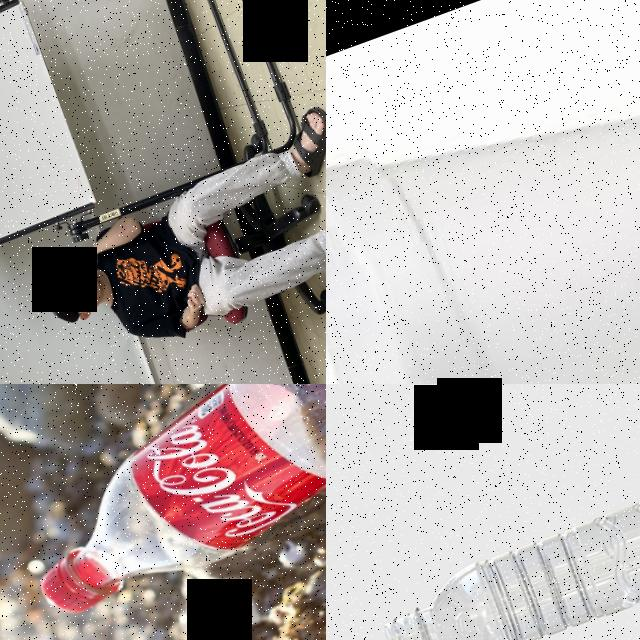bottle: (0, 384, 326, 626), (368, 435, 640, 640)
cup: (326, 0, 640, 384)
